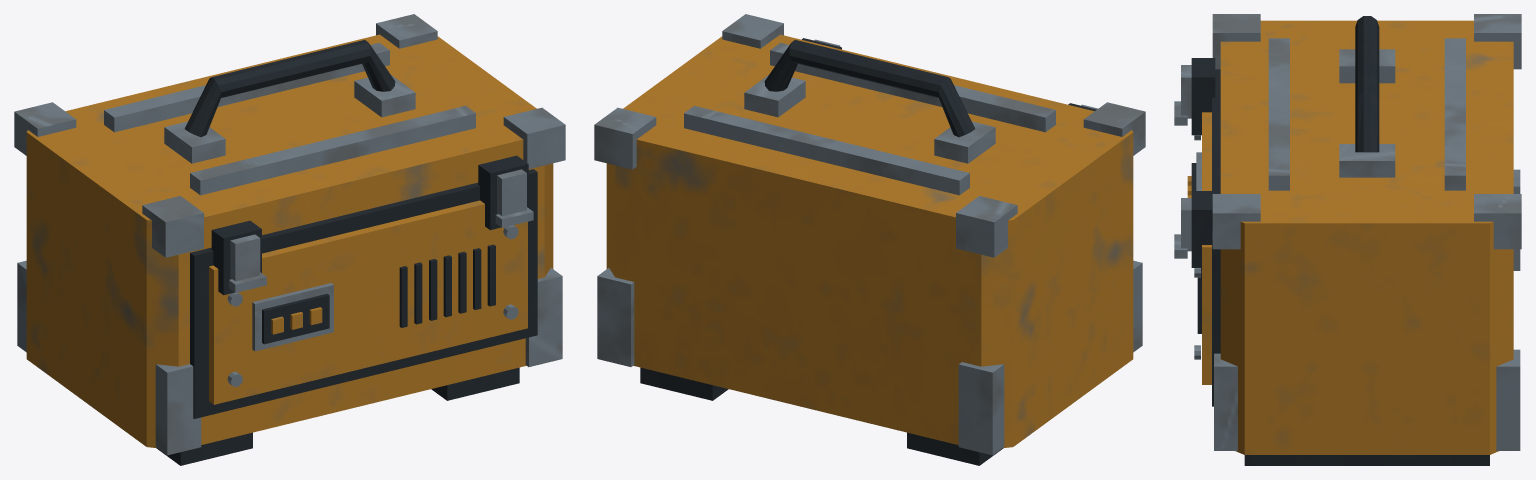
File: field-service-case.glb
3 views of the same model, side by side, from view 1: azimuth 30°, elevation 25°; view 2: azimuth 150°, elevation 25°; view 3: azimuth 270°, elevation 25° (orthographic). The views are drawn at different scales.
Parts seen in each view (by area): view 1: paint, steel, rubber; view 2: paint, steel, rubber; view 3: paint, steel, rubber.
Boxes of the visible parts, <box> form: paint: <box>26,34,553,448</box>; steel: <box>14,14,565,455</box>; rubber: <box>156,40,537,465</box>; paint: <box>606,34,1133,448</box>; steel: <box>594,14,1145,455</box>; rubber: <box>640,38,1096,465</box>; paint: <box>1187,20,1513,454</box>; steel: <box>1174,14,1521,450</box>; rubber: <box>1191,16,1489,465</box>.
Bounding box in the file's own units: 1.8 × 1.36 × 1.31.
Materials: 3 (3 with a texture image).
